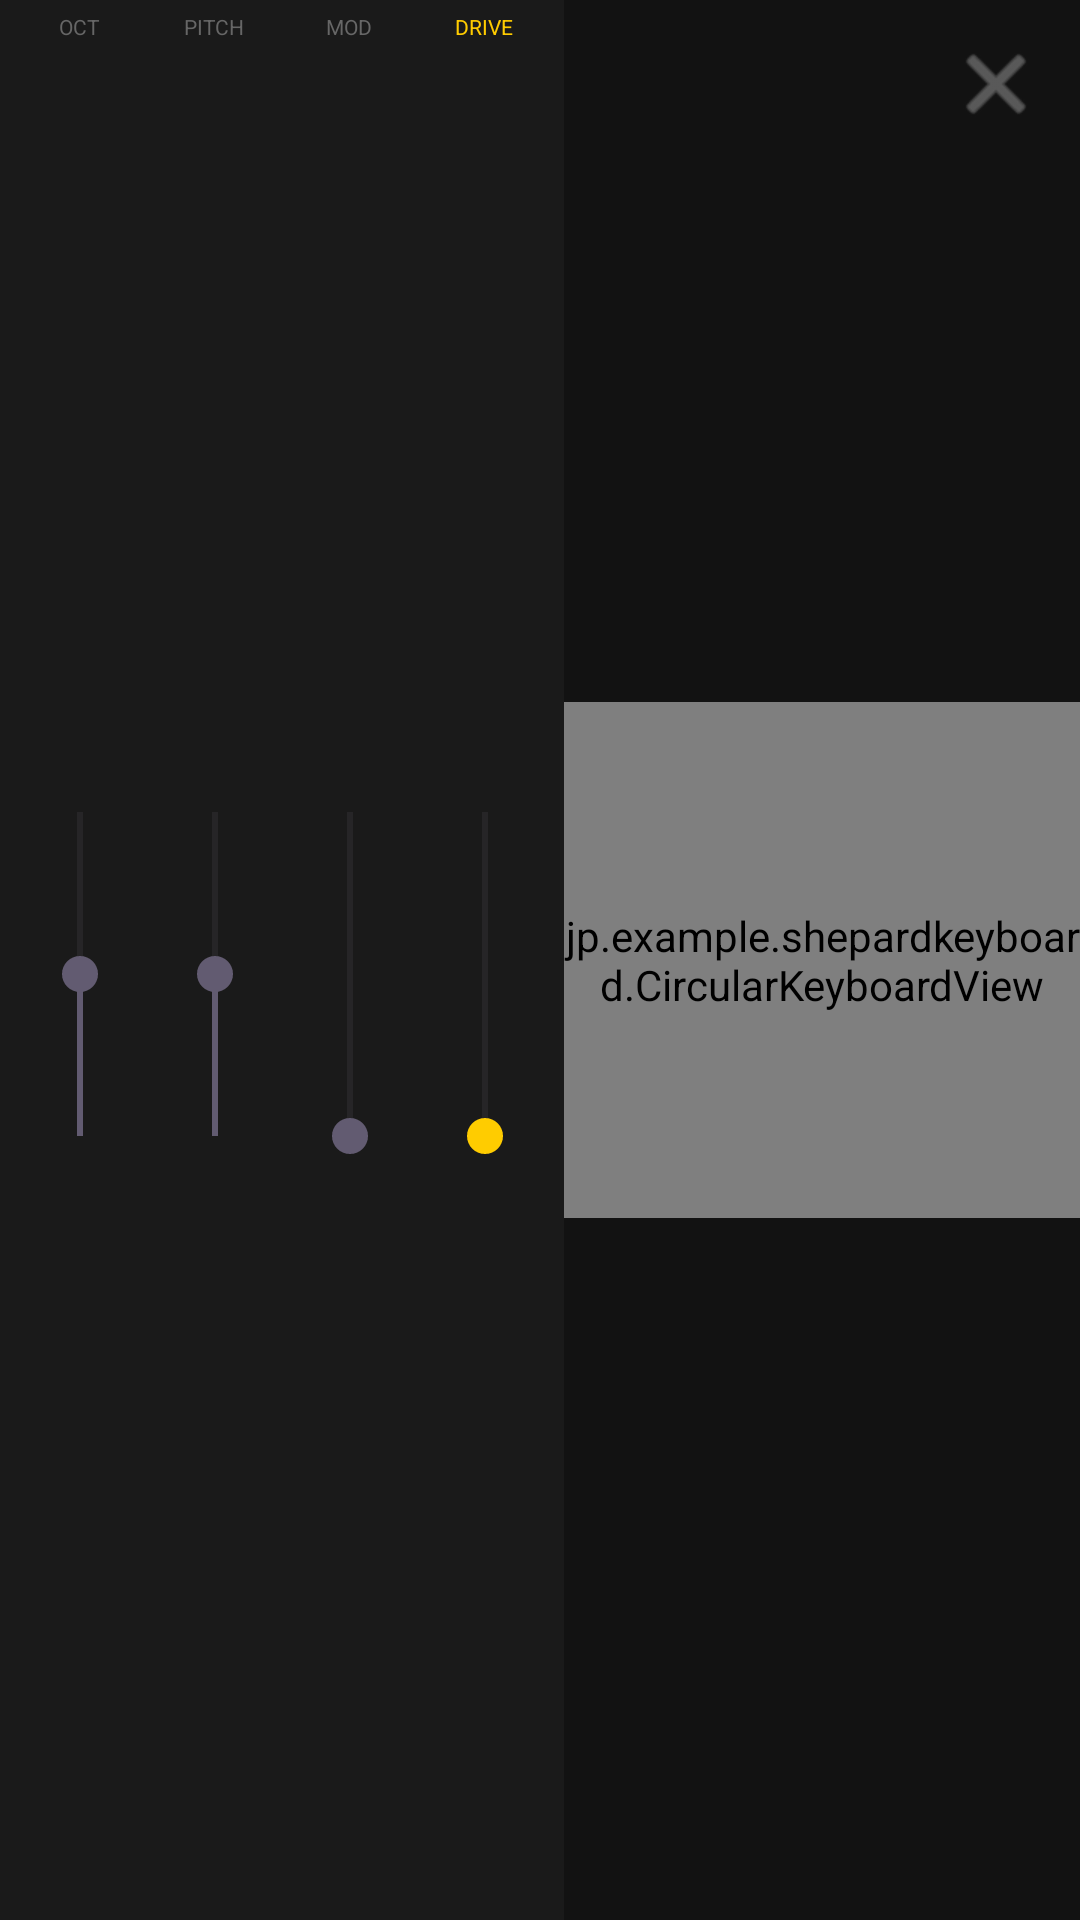

Icon click points for this 1080 × 1920 phone screenshot, format [x,y]:
close clear cancel: [996,84]
